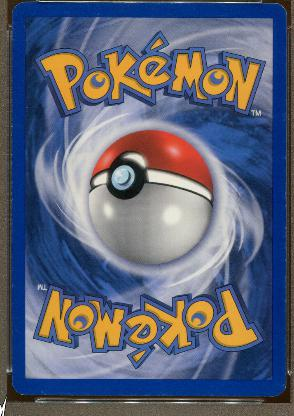Card: (8, 0, 290, 402)
Corner Wear: (11, 382, 26, 396), (273, 1, 287, 16)
Edge Wear: (19, 393, 233, 396), (109, 0, 205, 4), (281, 180, 285, 262), (266, 381, 286, 397)
